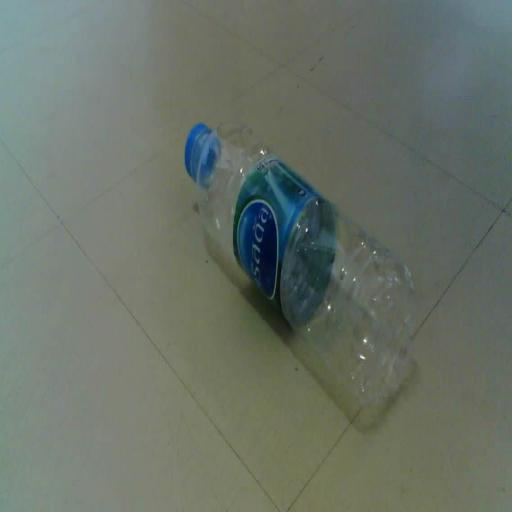bottle: (176, 101, 434, 434)
